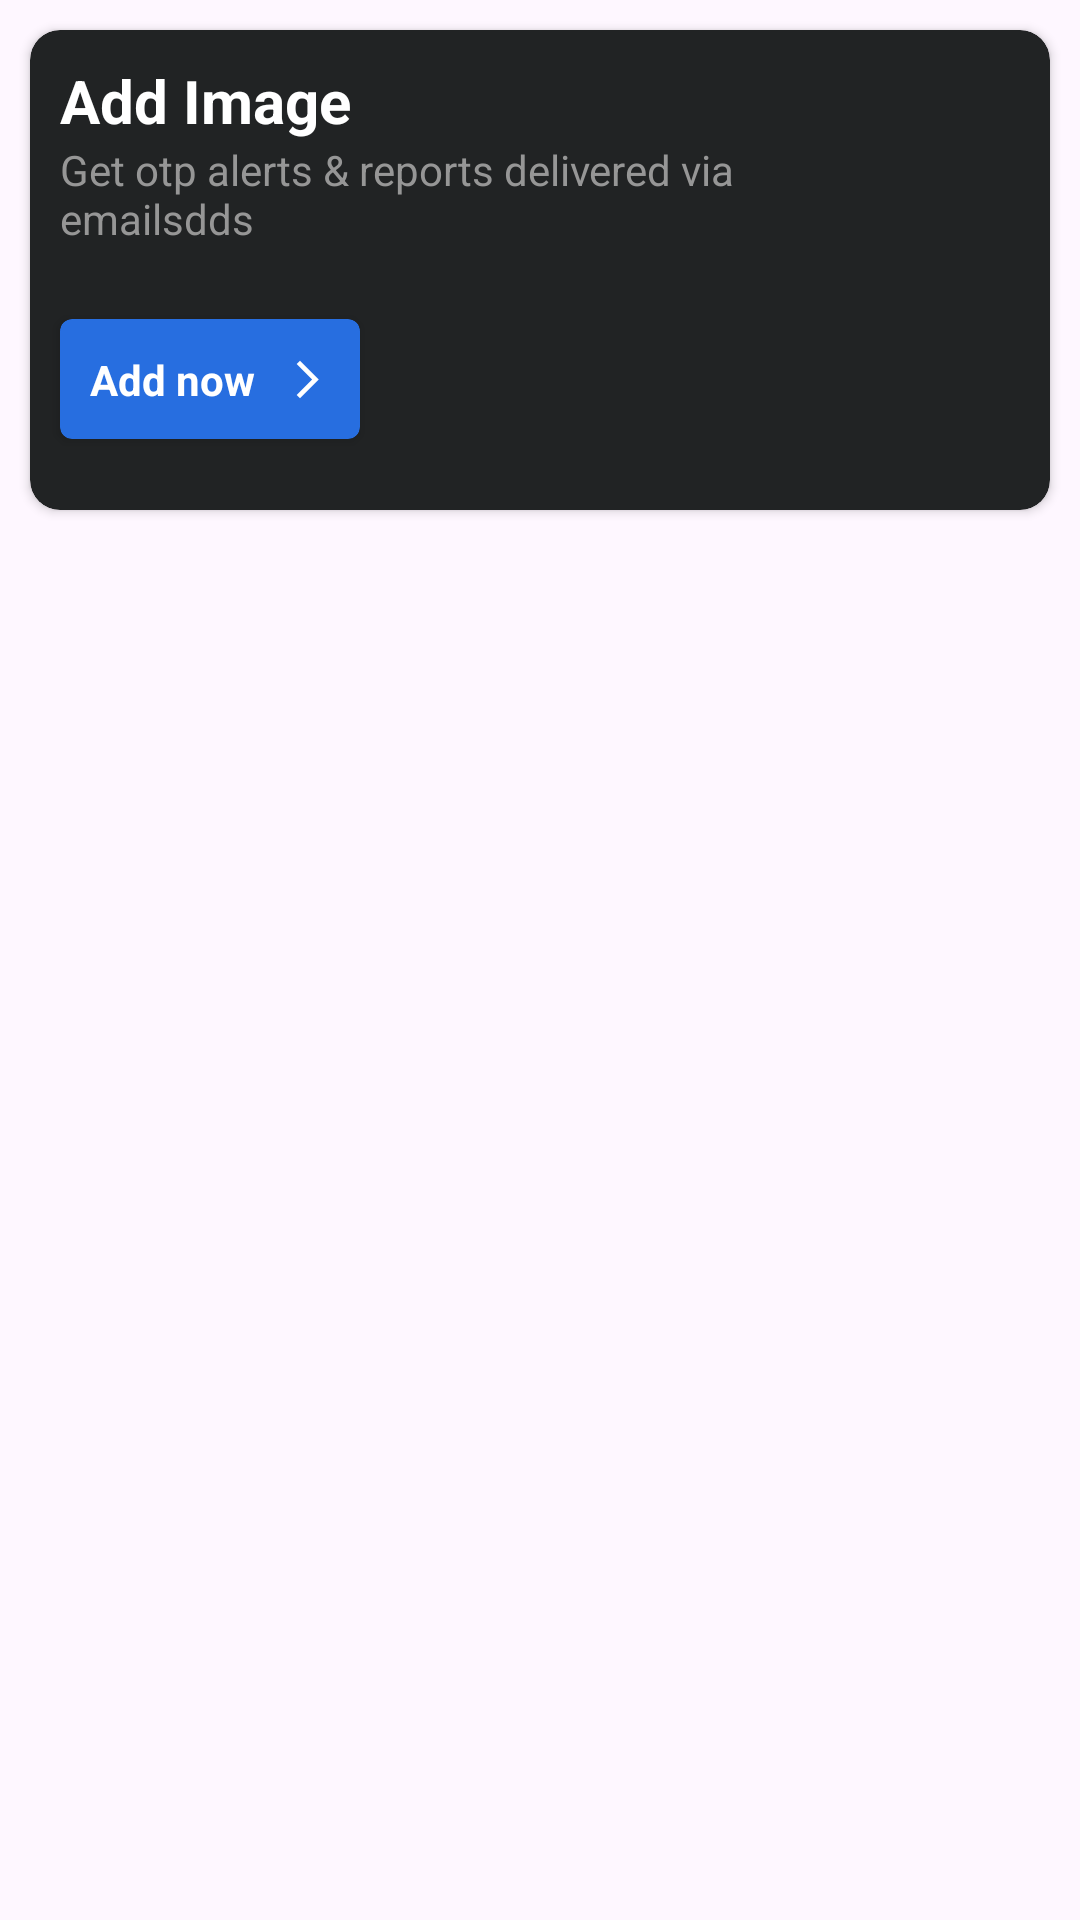

Where icons sit on this 1080px x 1920px app screen, as BBox(x1, y1, x2, y2):
arrow forward: BBox(297, 361, 319, 398)
